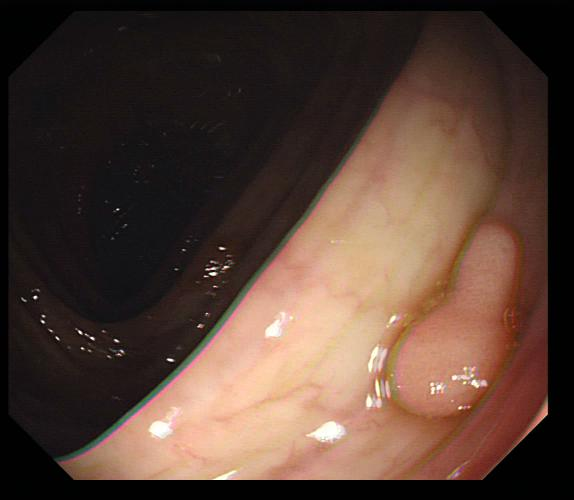polyp: (382, 226, 518, 420)
